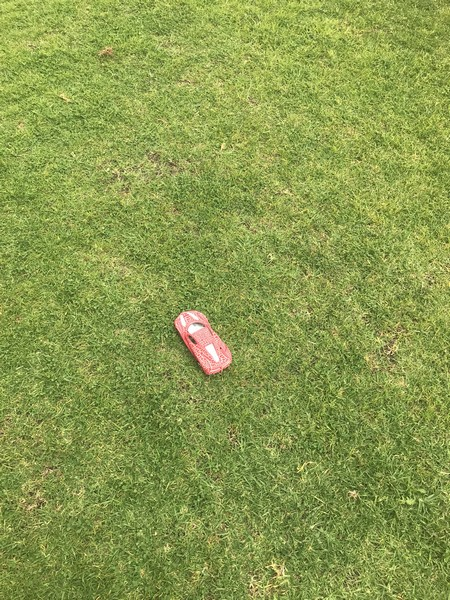RC: (172, 308, 234, 377)
